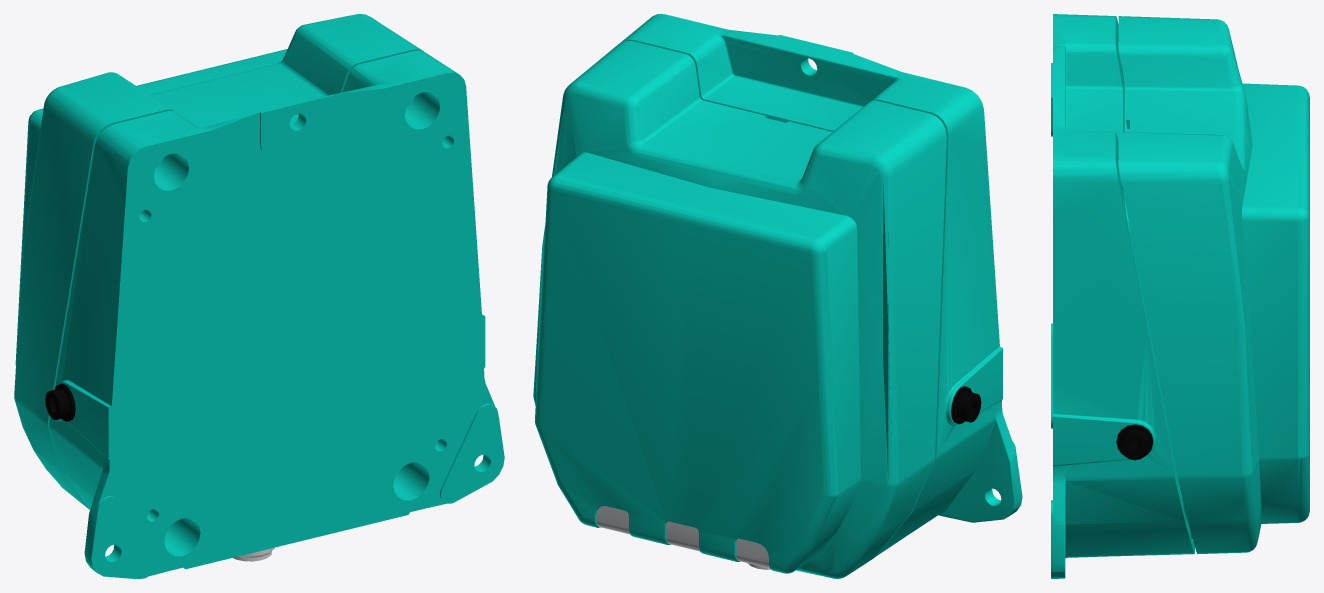
3 views of the same model, side by side, from view 1: azimuth 30°, elevation 25°; view 2: azimuth 150°, elevation 25°; view 3: azimuth 270°, elevation 25° (orthographic). The views are drawn at different scales.
Parts seen in each view (by area): view 1: _Read_write_head_10000873_0, _Read_write_head_10000874_0; view 2: _Read_write_head_10000874_0, _Read_write_head_10000873_0; view 3: _Read_write_head_10000874_0, _Read_write_head_10000873_0.
Part boxes in pixels (x1=…): _Read_write_head_10000873_0: x1=45, y1=50, x2=504, y2=578; _Read_write_head_10000874_0: x1=14, y1=14, x2=423, y2=508; _Read_write_head_10000874_0: x1=533, y1=40, x2=946, y2=578; _Read_write_head_10000873_0: x1=620, y1=14, x2=1022, y2=569; _Read_write_head_10000874_0: x1=1118, y1=16, x2=1309, y2=553; _Read_write_head_10000873_0: x1=1051, y1=14, x2=1194, y2=578.
Size of the model in its own units: 112 by 125 by 63.3.
